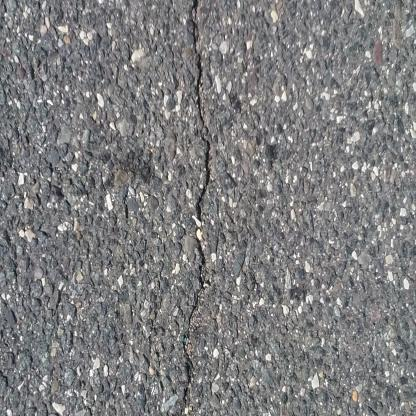Cracks: (166, 0, 214, 416)
